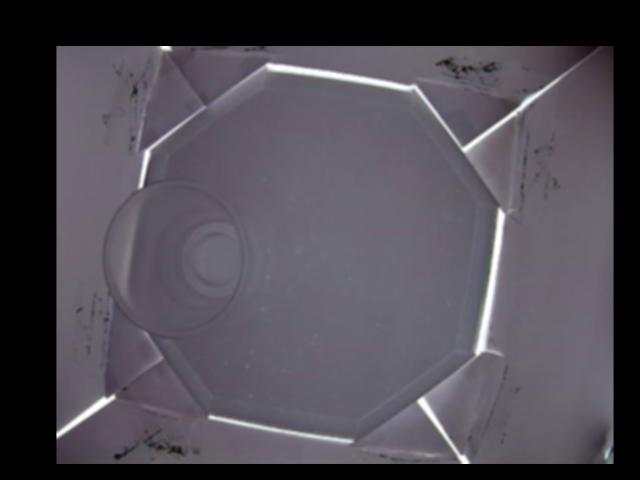Cup: (100, 174, 254, 338)
